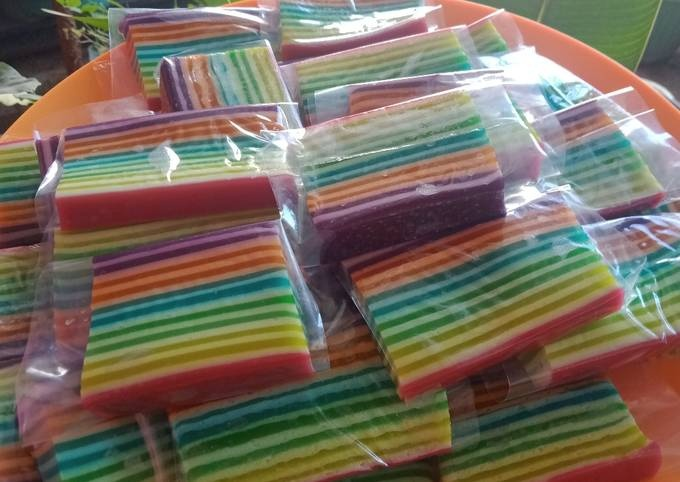kue_lapis_pelangi: (340, 190, 624, 402), (80, 224, 315, 420), (298, 90, 507, 261), (57, 105, 289, 230)
